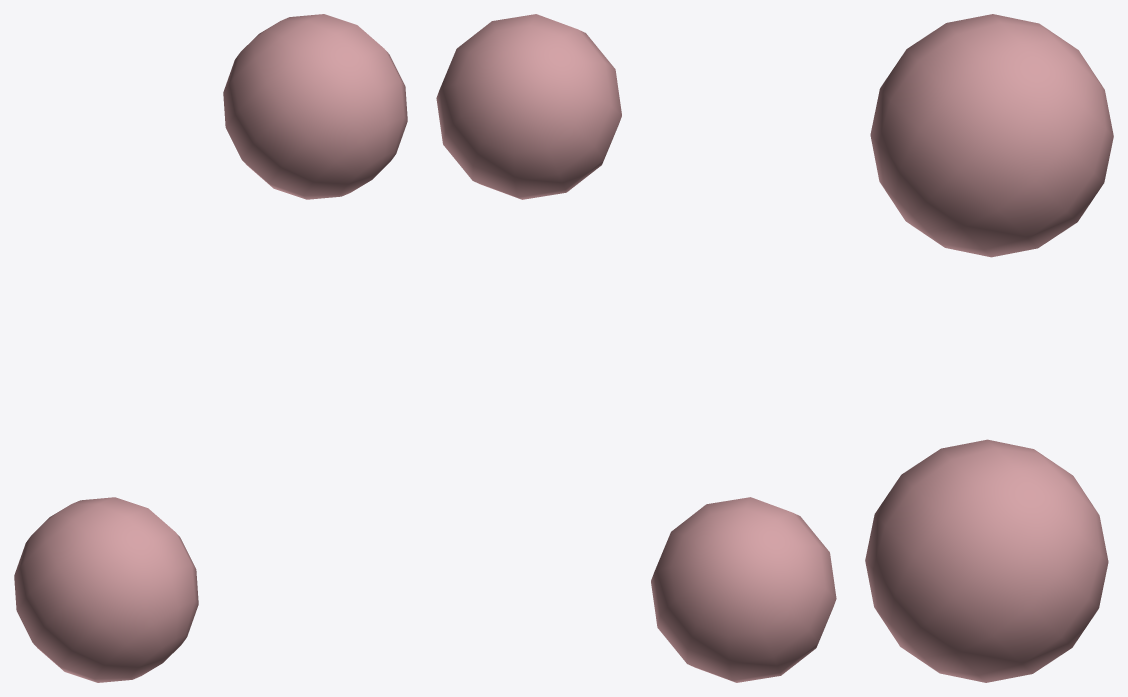
The picture shows the model from 3 angles, left to right: view 1: azimuth 30°, elevation 25°; view 2: azimuth 150°, elevation 25°; view 3: azimuth 270°, elevation 25°; orthographic projection. The views are drawn at different scales.
Visible parts, largest first — view 1: ZA_25b6c77c6713ce37; view 2: ZA_25b6c77c6713ce37; view 3: ZA_25b6c77c6713ce37.
Boxes of the visible parts, bbox=[...] form: ZA_25b6c77c6713ce37: bbox=[14, 14, 407, 682]; ZA_25b6c77c6713ce37: bbox=[436, 14, 836, 682]; ZA_25b6c77c6713ce37: bbox=[865, 14, 1113, 682].
Size of the model in its own units: 0.00592 by 0.00918 by 0.00266.
